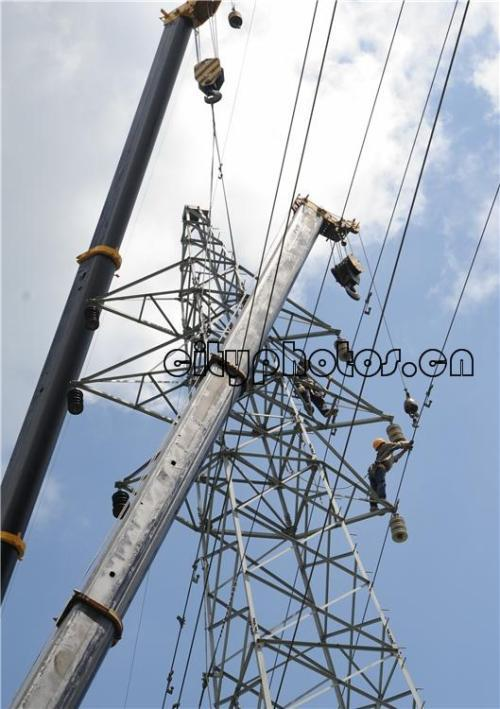helmet: (370, 436, 389, 455)
